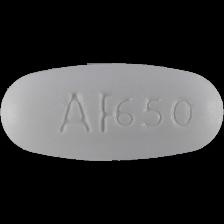60505-3638: (0, 0, 224, 224)
